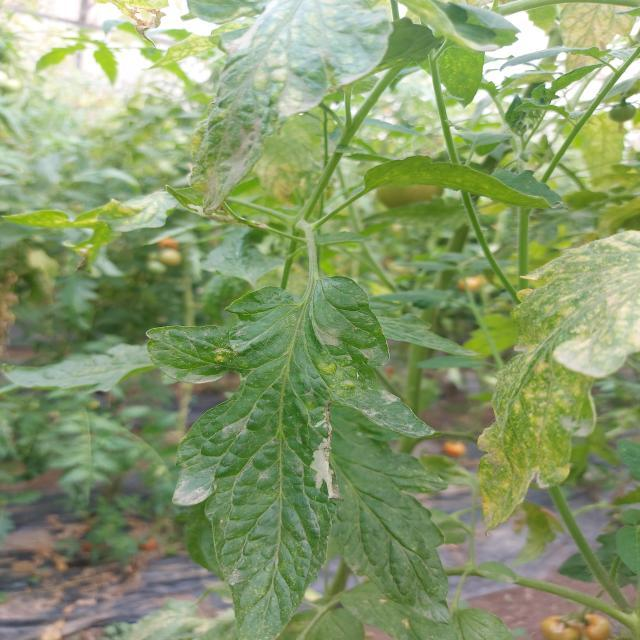Tuta absoluta: (303, 415, 344, 505)
